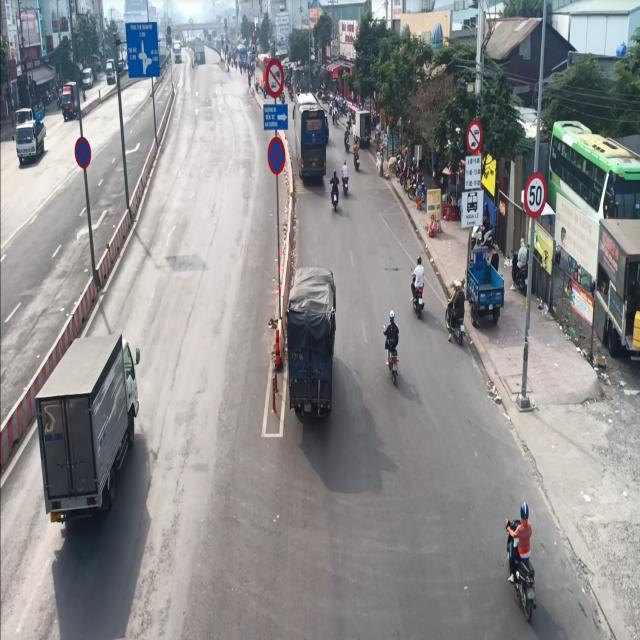bus: (292, 90, 331, 190)
motor: (503, 500, 539, 636), (383, 306, 403, 394), (409, 253, 431, 322)
truck: (29, 330, 147, 543), (282, 264, 337, 439)
